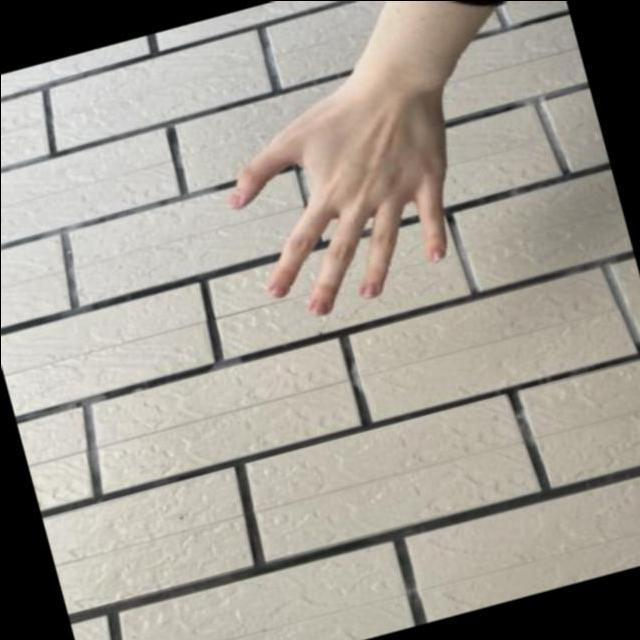hand: (198, 59, 494, 348)
